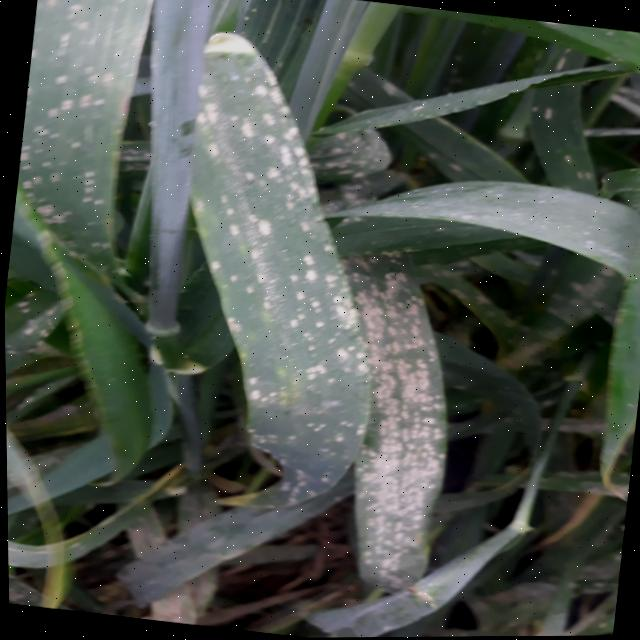powder_mildew: (118, 0, 498, 548), (310, 233, 505, 600), (0, 0, 169, 364), (6, 492, 258, 632), (479, 16, 640, 215), (474, 222, 640, 385), (480, 394, 637, 545), (439, 531, 620, 637)
